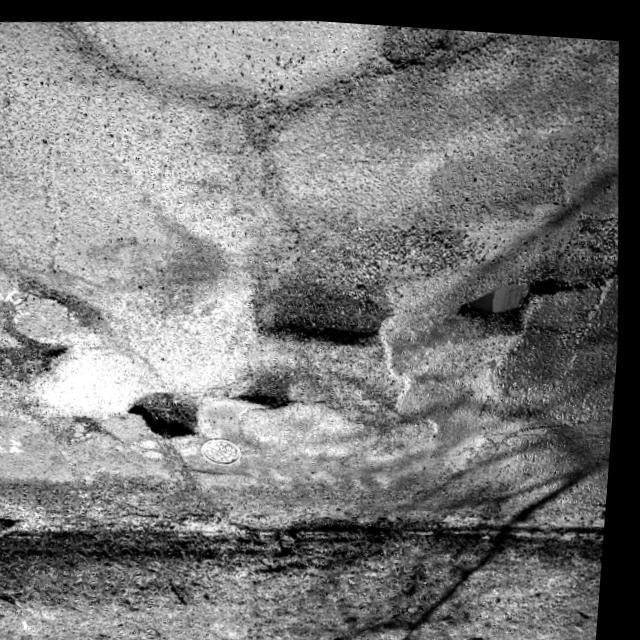pathole: (0, 209, 622, 479), (260, 215, 491, 337), (136, 391, 203, 436), (470, 274, 532, 308), (243, 368, 296, 404), (0, 516, 23, 537)
